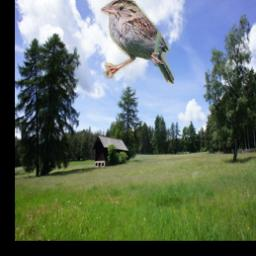Sparrow: (101, 0, 174, 85)
